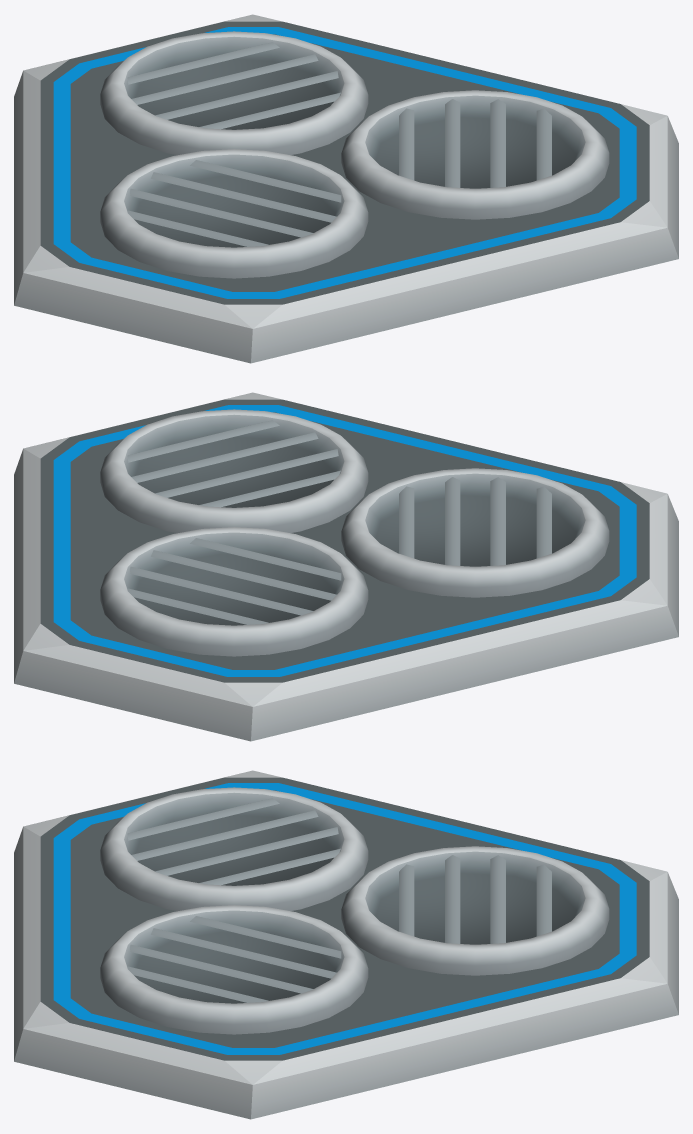
Rendered from Ventilation_019.fbx.
3 views of the same model, one above another, from view 1: azimuth 30°, elevation 25°; view 2: azimuth 150°, elevation 25°; view 3: azimuth 270°, elevation 25° (orthographic).
Parts seen in each view (by area): view 1: Ventilation_019; view 2: Ventilation_019; view 3: Ventilation_019.
Boxes of the visible parts, left/top/right/bottom form: Ventilation_019: left=14, top=14, right=678, bottom=363; Ventilation_019: left=14, top=392, right=678, bottom=741; Ventilation_019: left=14, top=770, right=678, bottom=1119.
Bounding box in the file's own units: 124 × 108 × 10.53.
